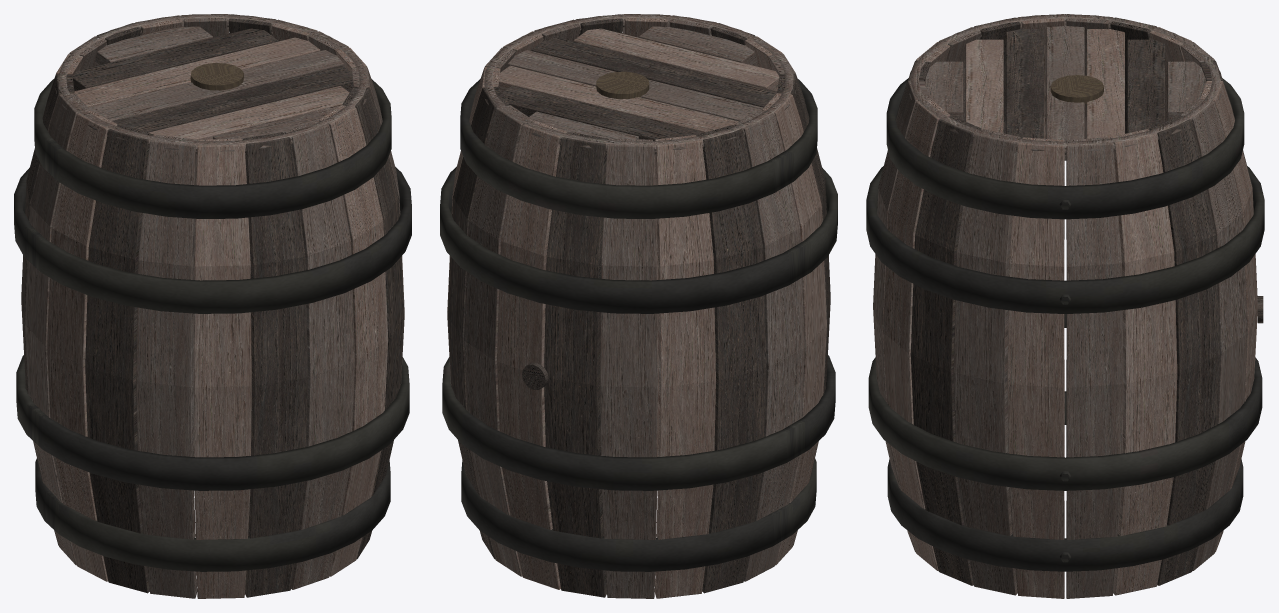
File: Barrel.gltf
3 views of the same model, side by side, from view 1: azimuth 30°, elevation 25°; view 2: azimuth 150°, elevation 25°; view 3: azimuth 270°, elevation 25° (orthographic).
Visible parts, largest first — view 1: Barrel; view 2: Barrel; view 3: Barrel.
Boxes of the visible parts, x1,y1,x2,y2 form: Barrel: (14, 14, 411, 598); Barrel: (440, 14, 837, 598); Barrel: (866, 14, 1264, 598).
Bounding box in the file's own units: 0.677 × 0.8414 × 0.67.
Materials: 5 (5 with a texture image).
